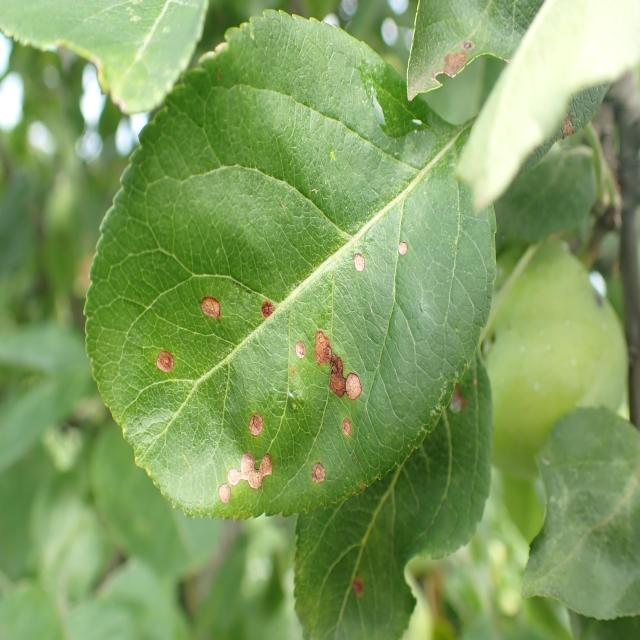Black Rot: (314, 327, 374, 446), (416, 27, 482, 118), (204, 443, 277, 510), (440, 367, 488, 439), (350, 238, 380, 304), (147, 333, 191, 375), (302, 452, 339, 501), (230, 407, 270, 445), (388, 218, 412, 276), (346, 558, 370, 614), (257, 287, 280, 344), (196, 296, 232, 331), (293, 334, 312, 374)
